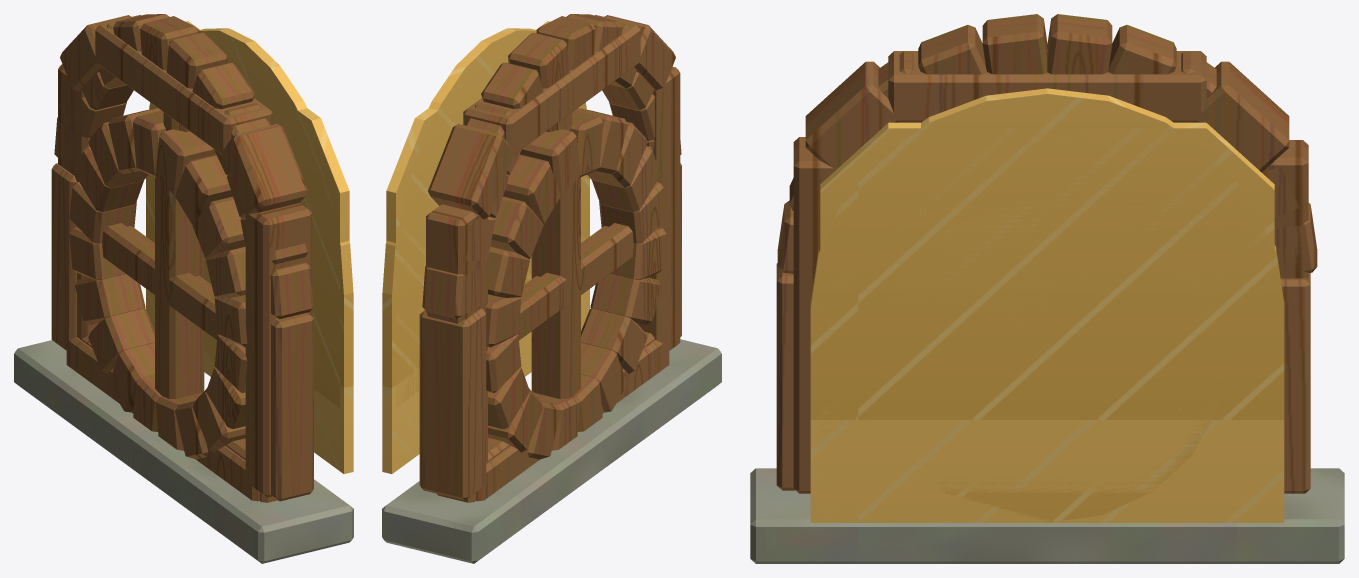
Rendered from HealingHouse_V2_WindowModules.fbx.
3 renders of one model, left to right at view 1: azimuth 30°, elevation 25°; view 2: azimuth 150°, elevation 25°; view 3: azimuth 270°, elevation 25°, orthographic. The views are drawn at different scales.
Visible parts, largest first — view 1: HH_V2_WindowModule_Arch, HH_V2_WindowModule_Round, HH_V2_WindowModule_Twin; view 2: HH_V2_WindowModule_Arch, HH_V2_WindowModule_Round, HH_V2_WindowModule_Twin; view 3: HH_V2_WindowModule_Arch, HH_V2_WindowModule_Twin, HH_V2_WindowModule_Round.
Boxes of the visible parts, x1,y1,x2,y2 form: HH_V2_WindowModule_Arch: (14,14,353,563); HH_V2_WindowModule_Round: (69,108,319,459); HH_V2_WindowModule_Twin: (18,15,349,558); HH_V2_WindowModule_Arch: (382,14,721,563); HH_V2_WindowModule_Round: (417,108,666,459); HH_V2_WindowModule_Twin: (386,15,714,551); HH_V2_WindowModule_Arch: (750,14,1344,563); HH_V2_WindowModule_Twin: (765,51,1329,563); HH_V2_WindowModule_Round: (888,200,1220,522).
Bounding box in the file's own units: 1.57 × 0.4325 × 1.5.
